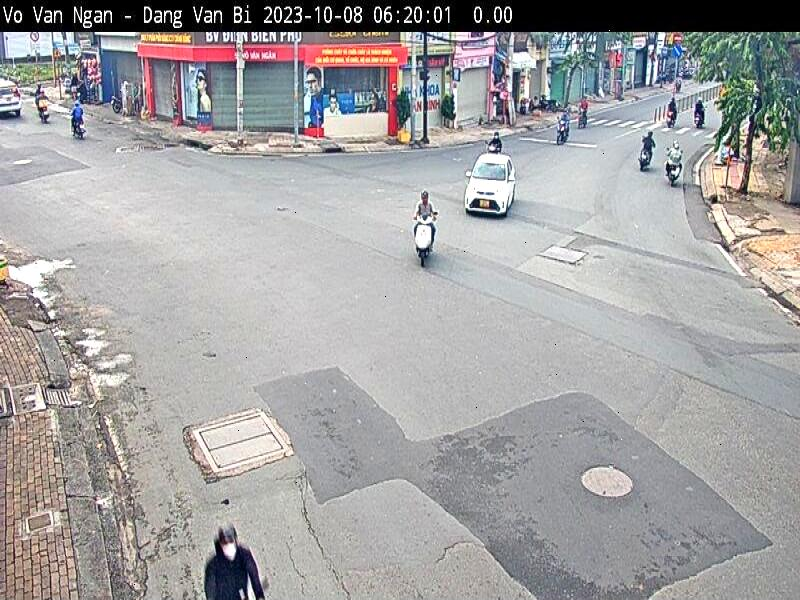car: (465, 152, 517, 213)
motorcycle: (413, 214, 439, 268)
